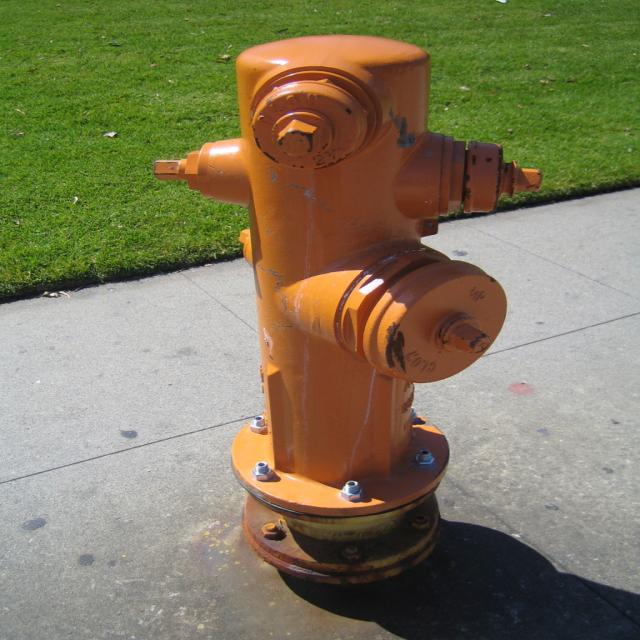fire_hydrant: (156, 31, 545, 588)
